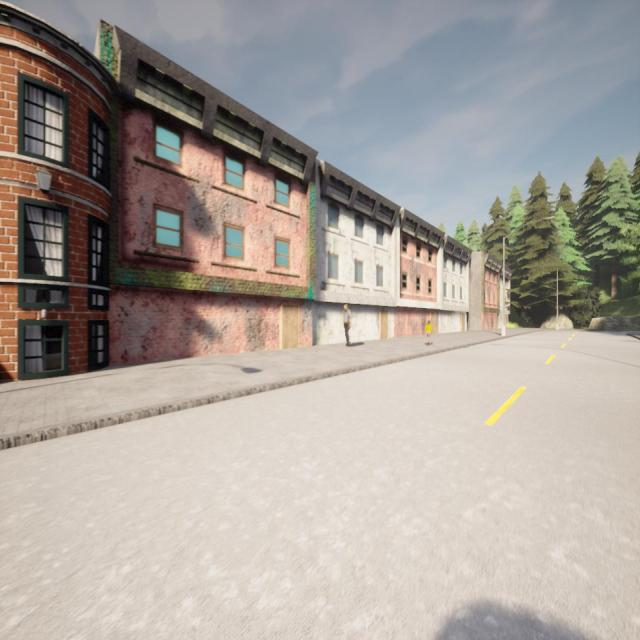Pedestrian: (343, 304, 351, 346), (424, 319, 432, 345)
